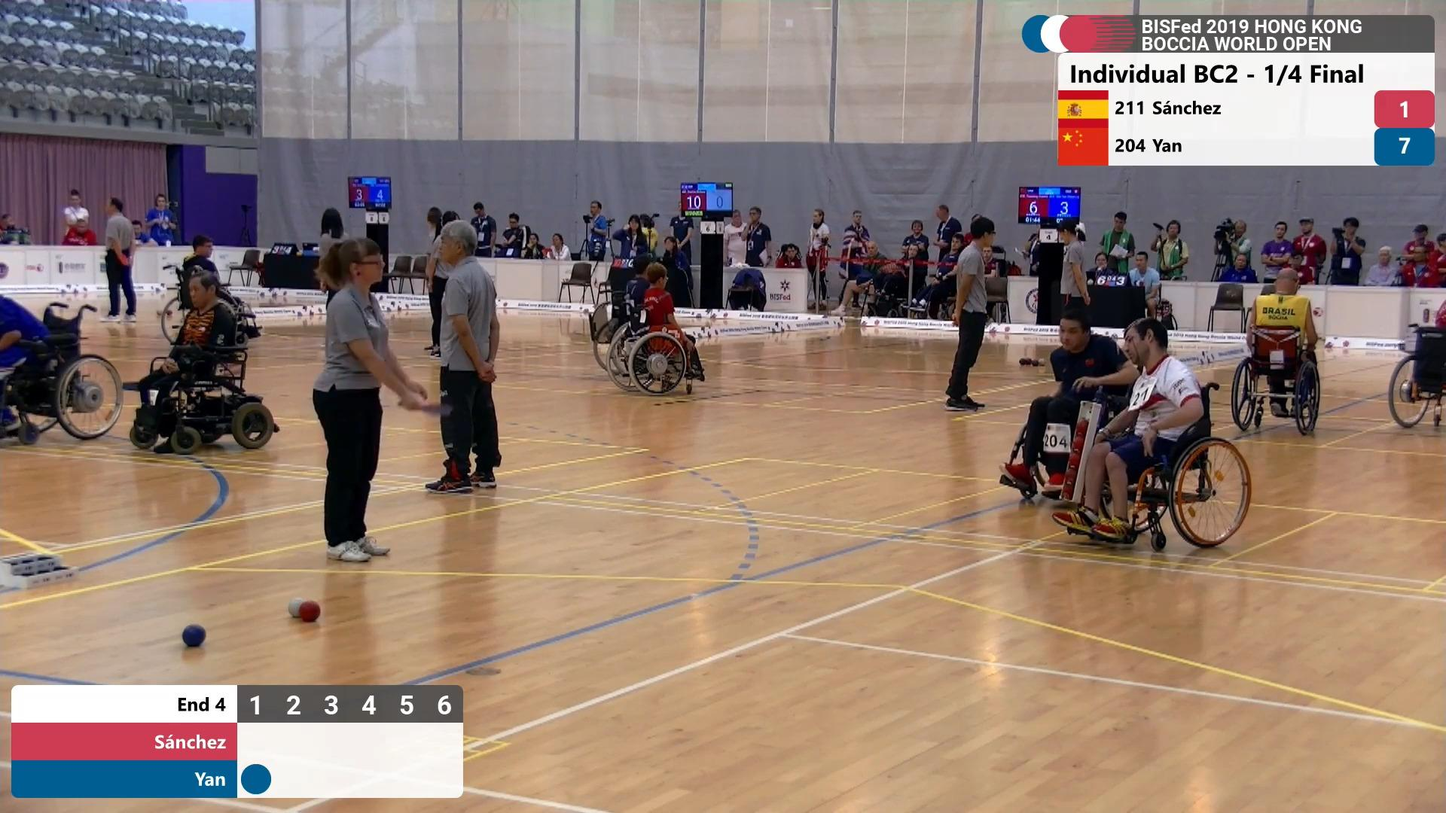blue_ball: (180, 623, 208, 649)
red_ball: (298, 597, 323, 624)
